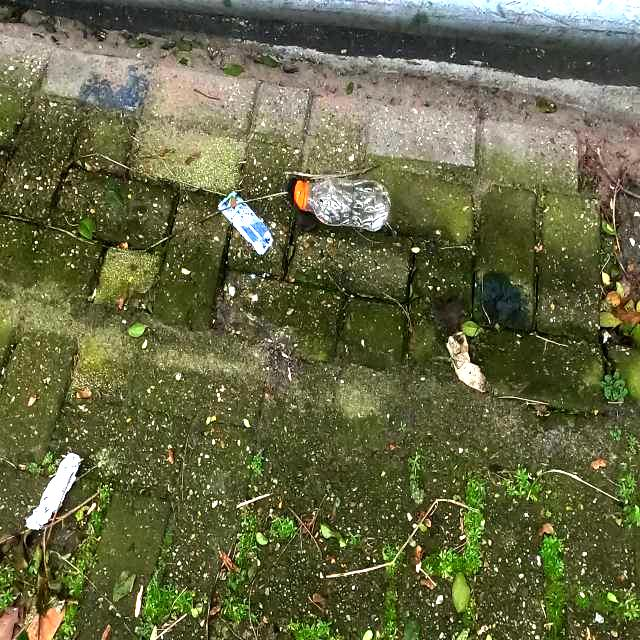Plastic: (27, 449, 85, 536), (218, 188, 274, 256)
